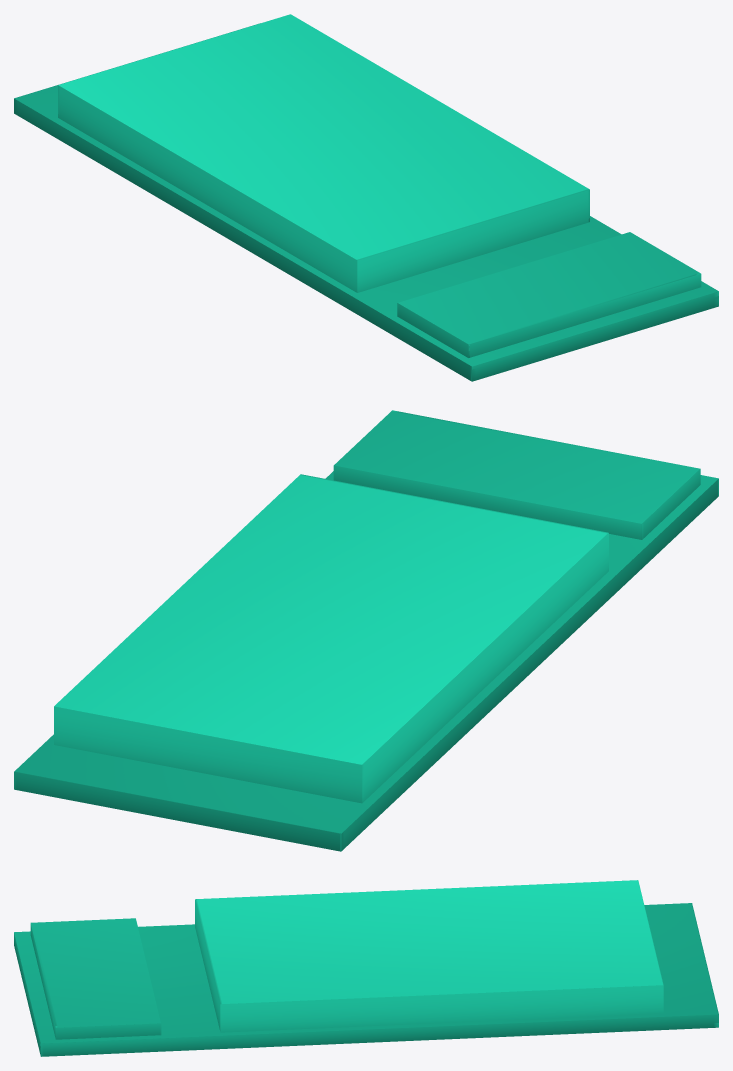
Rendered from bedroll.glb.
3 renders of one model, top to bottom at view 1: azimuth 30°, elevation 25°; view 2: azimuth 150°, elevation 25°; view 3: azimuth 270°, elevation 25°, orthographic. The views are drawn at different scales.
Parts seen in each view (by area): view 1: bedrolll; view 2: bedrolll; view 3: bedrolll.
Boxes of the visible parts, x1,y1,x2,y2 form: bedrolll: (14, 14, 718, 381); bedrolll: (14, 410, 718, 851); bedrolll: (14, 880, 718, 1056).
Size of the model in its own units: 1.13 by 0.1558 by 2.39.
1 material, 1 textured.
